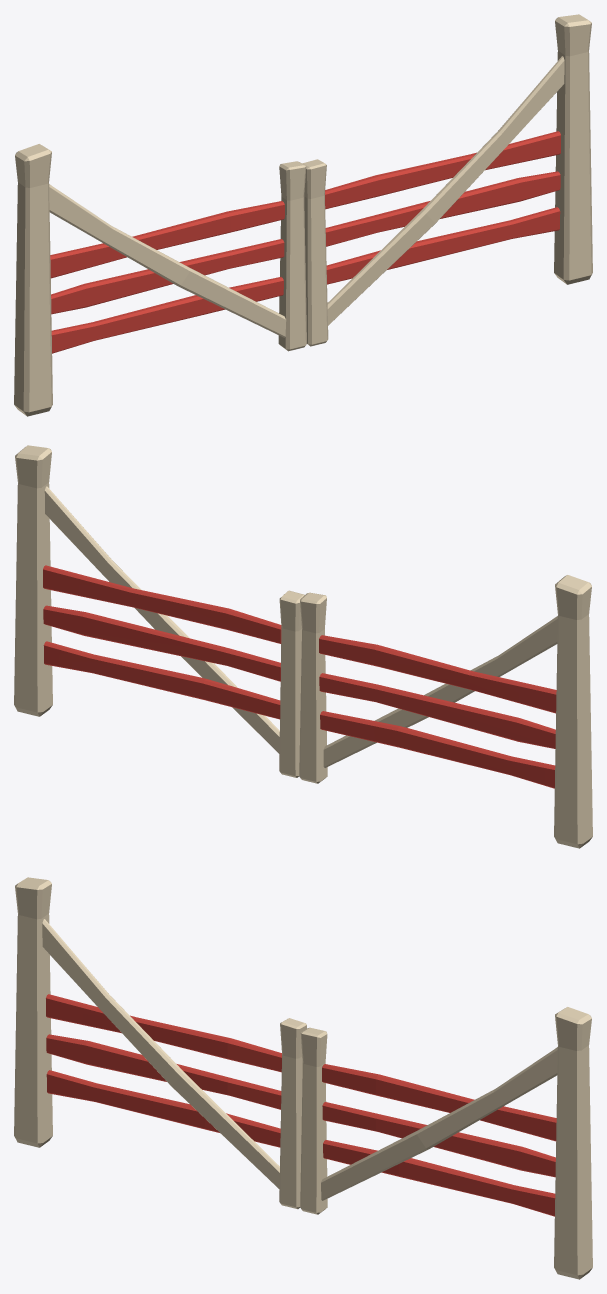
File: gate_a.gltf
The picture shows the model from 3 angles, top to bottom: view 1: azimuth 30°, elevation 25°; view 2: azimuth 150°, elevation 25°; view 3: azimuth 330°, elevation 25°; orthographic projection.
Parts seen in each view (by area): view 1: gate_a001; view 2: gate_a001; view 3: gate_a001.
Boxes of the visible parts, x1,y1,x2,y2 form: gate_a001: (14,14,592,416); gate_a001: (14,445,592,848); gate_a001: (14,877,592,1279).
Size of the model in its own units: 2.6 by 1.14 by 0.1098.
1 material, 1 textured.
